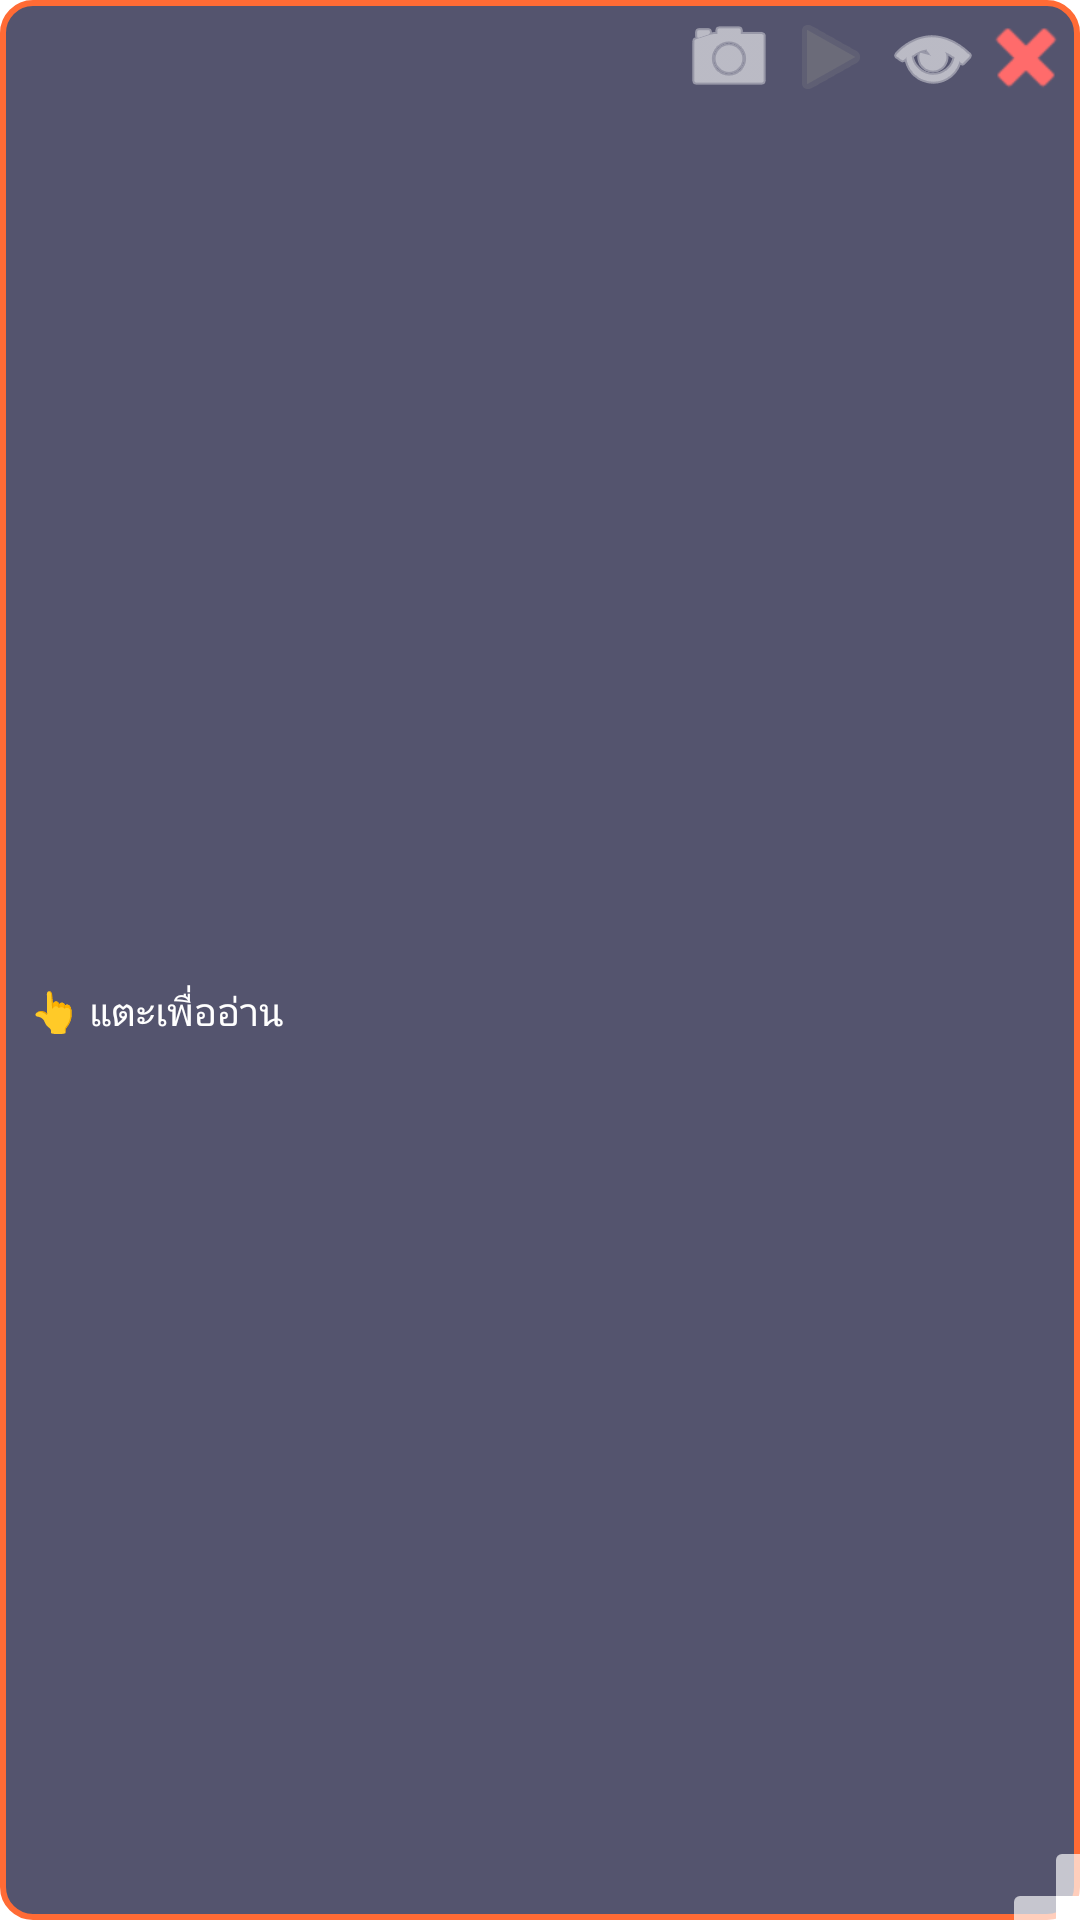

Icon bounding boxes for this 1080px x 1920px phone screenshot, format rect(x1, y1, x2, y2):
Close: rect(996, 28, 1056, 87)
OCR: rect(692, 26, 766, 85)
Resize: rect(1014, 1854, 1080, 1920)
